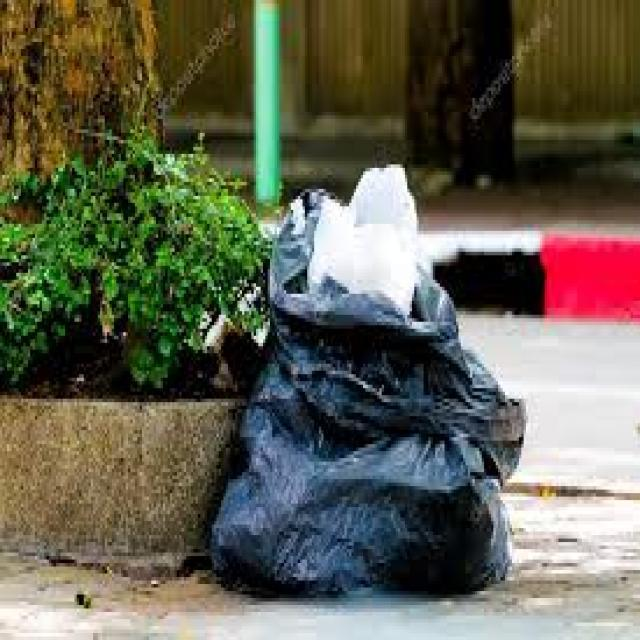garbage: (209, 164, 533, 606)
